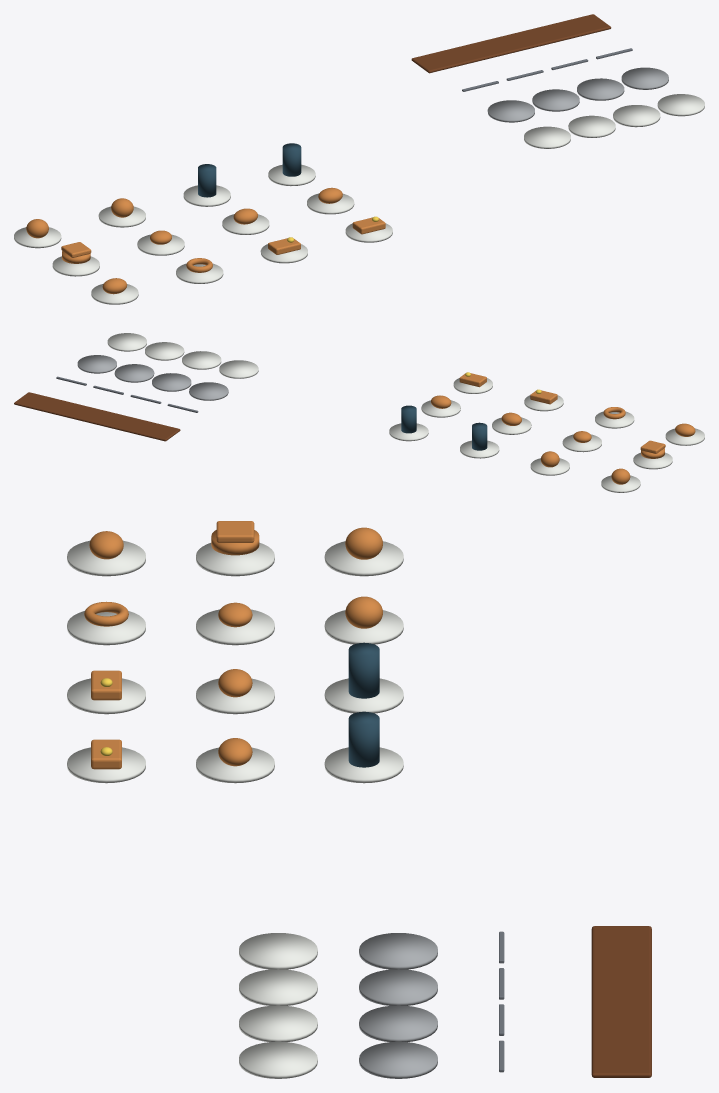
The model's file is BHC_FOOD_63RD_CHOPHOUSE.glb.
The picture shows the model from 3 angles, top to bottom: view 1: azimuth 30°, elevation 25°; view 2: azimuth 150°, elevation 25°; view 3: azimuth 270°, elevation 25°; orthographic projection. The views are drawn at different scales.
Parts seen in each view (by area): view 1: SM_BHC_FOOD_63RD_ServingTray_00, SM_BHC_FOOD_63RD_ServingTray_02, SM_BHC_FOOD_63RD_ServingTray_01, SM_BHC_FOOD_63RD_ServingTray_03, SM_BHC_FOOD_63RD_DirtyPlate_01, SM_BHC_FOOD_63RD_DirtyPlate_02, SM_BHC_FOOD_63RD_DirtyPlate_03, SM_BHC_FOOD_63RD_DirtyPlate_00, SM_BHC_FOOD_63RD_EmptyPlate_01, SM_BHC_FOOD_63RD_EmptyPlate_00, SM_BHC_FOOD_63RD_EmptyPlate_03, SM_BHC_FOOD_63RD_EmptyPlate_02 (+14 smaller); view 2: SM_BHC_FOOD_63RD_ServingTray_00, SM_BHC_FOOD_63RD_ServingTray_01, SM_BHC_FOOD_63RD_ServingTray_03, SM_BHC_FOOD_63RD_ServingTray_02, SM_BHC_FOOD_63RD_DirtyPlate_02, SM_BHC_FOOD_63RD_DirtyPlate_03, SM_BHC_FOOD_63RD_EmptyPlate_00, SM_BHC_FOOD_63RD_DirtyPlate_00, SM_BHC_FOOD_63RD_DirtyPlate_01, SM_BHC_FOOD_63RD_EmptyPlate_02, SM_BHC_FOOD_63RD_EmptyPlate_01, SM_BHC_FOOD_63RD_EmptyPlate_03 (+16 smaller); view 3: SM_BHC_FOOD_63RD_ServingTray_03, SM_BHC_FOOD_63RD_EmptyPlate_03, SM_BHC_FOOD_63RD_DirtyPlate_03, SM_BHC_FOOD_63RD_DirtyPlate_00, SM_BHC_FOOD_63RD_EmptyPlate_01, SM_BHC_FOOD_63RD_DirtyPlate_01, SM_BHC_FOOD_63RD_EmptyPlate_02, SM_BHC_FOOD_63RD_DirtyPlate_02, SM_BHC_FOOD_63RD_EmptyPlate_00, SM_BHC_FOOD_63RD_ServingTray_00, SM_BHC_FOOD_63RD_ServingTray_01, SM_BHC_FOOD_63RD_ServingTray_02 (+20 smaller).
Part boxes in pixels (bbox=[...]): SM_BHC_FOOD_63RD_ServingTray_00: bbox=[411, 47, 476, 73]; SM_BHC_FOOD_63RD_ServingTray_02: bbox=[502, 25, 565, 50]; SM_BHC_FOOD_63RD_ServingTray_01: bbox=[457, 36, 521, 61]; SM_BHC_FOOD_63RD_ServingTray_03: bbox=[549, 14, 611, 39]; SM_BHC_FOOD_63RD_DirtyPlate_01: bbox=[532, 89, 579, 111]; SM_BHC_FOOD_63RD_DirtyPlate_02: bbox=[577, 78, 624, 100]; SM_BHC_FOOD_63RD_DirtyPlate_03: bbox=[621, 67, 668, 89]; SM_BHC_FOOD_63RD_DirtyPlate_00: bbox=[487, 100, 534, 122]; SM_BHC_FOOD_63RD_EmptyPlate_01: bbox=[568, 115, 615, 137]; SM_BHC_FOOD_63RD_EmptyPlate_00: bbox=[524, 126, 570, 148]; SM_BHC_FOOD_63RD_EmptyPlate_03: bbox=[657, 94, 704, 116]; SM_BHC_FOOD_63RD_EmptyPlate_02: bbox=[613, 105, 660, 127]; SM_BHC_FOOD_63RD_ServingTray_00: bbox=[126, 420, 180, 441]; SM_BHC_FOOD_63RD_ServingTray_01: bbox=[89, 410, 141, 431]; SM_BHC_FOOD_63RD_ServingTray_03: bbox=[14, 392, 65, 413]; SM_BHC_FOOD_63RD_ServingTray_02: bbox=[52, 401, 102, 422]; SM_BHC_FOOD_63RD_DirtyPlate_02: bbox=[114, 364, 154, 382]; SM_BHC_FOOD_63RD_DirtyPlate_03: bbox=[77, 355, 116, 373]; SM_BHC_FOOD_63RD_EmptyPlate_00: bbox=[219, 360, 258, 378]; SM_BHC_FOOD_63RD_DirtyPlate_00: bbox=[189, 382, 228, 400]; SM_BHC_FOOD_63RD_DirtyPlate_01: bbox=[152, 373, 191, 391]; SM_BHC_FOOD_63RD_EmptyPlate_02: bbox=[145, 342, 184, 360]; SM_BHC_FOOD_63RD_EmptyPlate_01: bbox=[182, 351, 221, 369]; SM_BHC_FOOD_63RD_EmptyPlate_03: bbox=[107, 333, 146, 351]; SM_BHC_FOOD_63RD_ServingTray_03: bbox=[591, 1035, 651, 1077]; SM_BHC_FOOD_63RD_EmptyPlate_03: bbox=[239, 1041, 317, 1078]; SM_BHC_FOOD_63RD_DirtyPlate_03: bbox=[359, 1041, 437, 1078]; SM_BHC_FOOD_63RD_DirtyPlate_00: bbox=[359, 933, 437, 969]; SM_BHC_FOOD_63RD_EmptyPlate_01: bbox=[239, 969, 317, 1005]; SM_BHC_FOOD_63RD_DirtyPlate_01: bbox=[359, 969, 437, 1005]; SM_BHC_FOOD_63RD_EmptyPlate_02: bbox=[239, 1005, 317, 1042]; SM_BHC_FOOD_63RD_DirtyPlate_02: bbox=[359, 1005, 437, 1042]; SM_BHC_FOOD_63RD_EmptyPlate_00: bbox=[239, 933, 317, 969]; SM_BHC_FOOD_63RD_ServingTray_00: bbox=[591, 926, 651, 965]; SM_BHC_FOOD_63RD_ServingTray_01: bbox=[591, 963, 651, 1002]; SM_BHC_FOOD_63RD_ServingTray_02: bbox=[591, 1000, 651, 1037].
Size of the model in its own units: 14.86 by 0.62 by 6.81.
